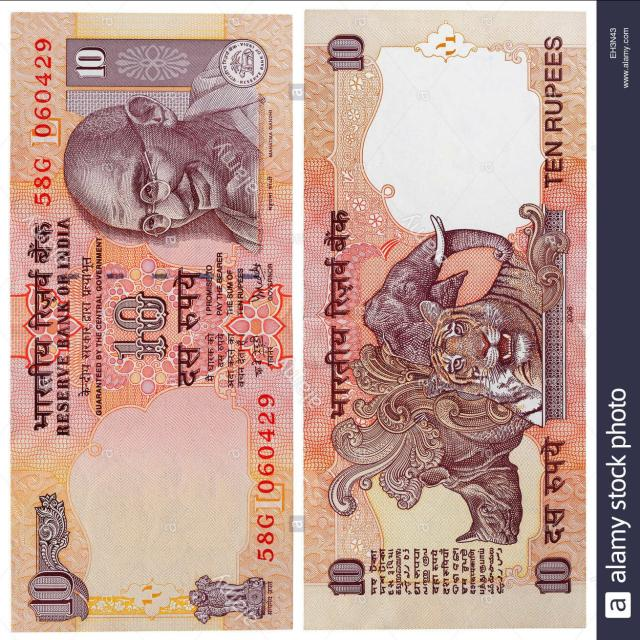10IndianRupees: (308, 7, 588, 630)
